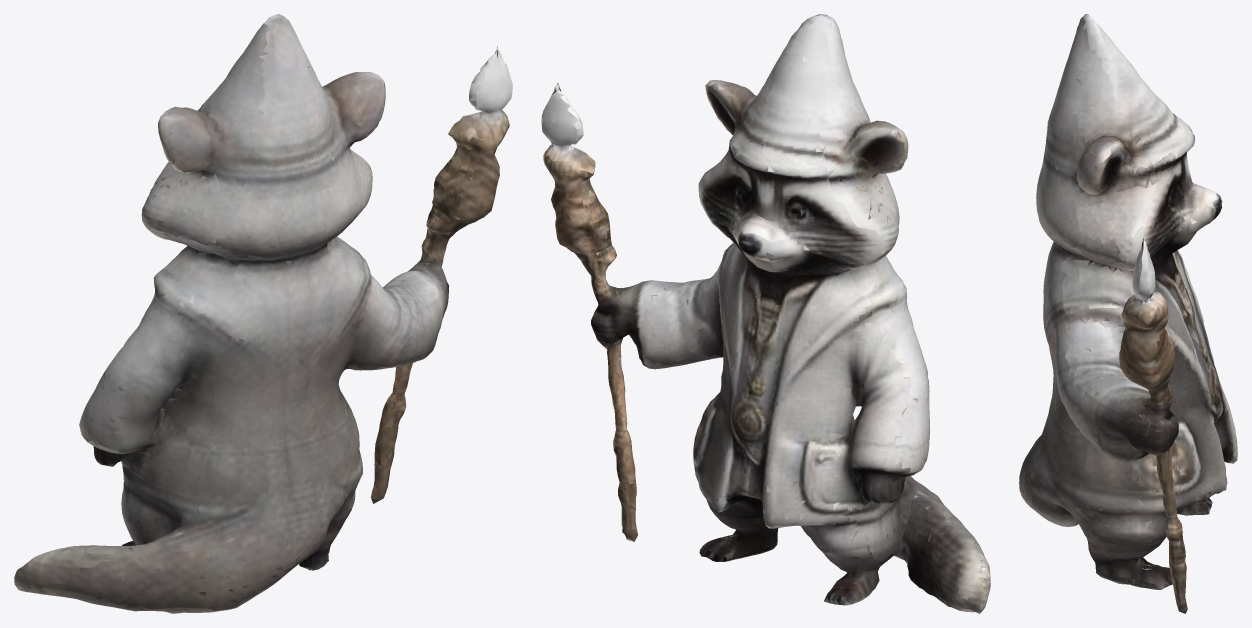
Rendered from malphor.glb.
3 renders of one model, left to right at view 1: azimuth 30°, elevation 25°; view 2: azimuth 150°, elevation 25°; view 3: azimuth 270°, elevation 25°, orthographic. The views are drawn at different scales.
Visible parts, largest first — view 1: world; view 2: world; view 3: world.
Part boxes in pixels (bbox=[...]): world: bbox=[14, 14, 512, 613]; world: bbox=[541, 14, 990, 613]; world: bbox=[1019, 14, 1237, 613].
Size of the model in its own units: 0.8236 by 0.927 by 0.3417.
1 material, 1 textured.
